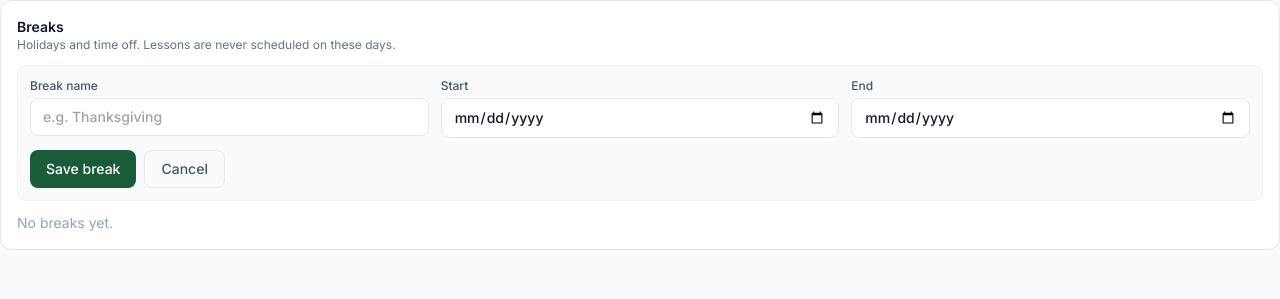
Test: SchoolBreaksPanel — add › shows an inline error and does not save for {"name":"Summer","start":"2027-06-10","end":"2027-06-20"}
This screenshot has width=1280, height=299.
Type "Summer" into the field labelled "Break name" at (229, 117), box [30,98,429,136]
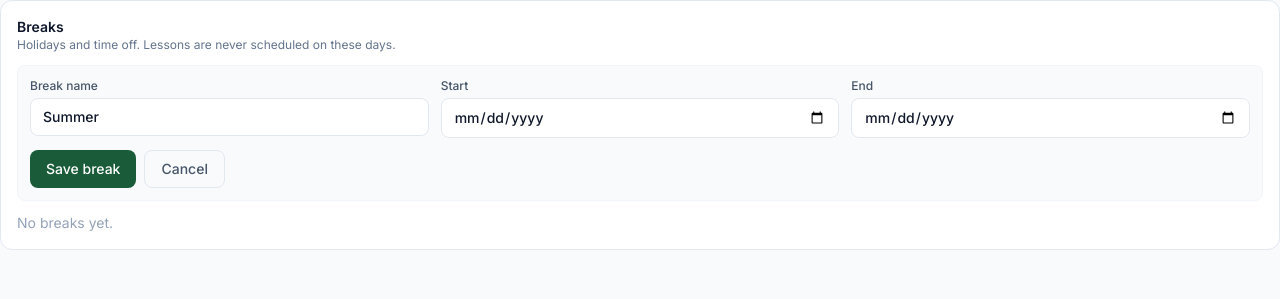
Type "2027-06-10" into the date field labelled "Start" at (640, 118), box [441,98,839,138]
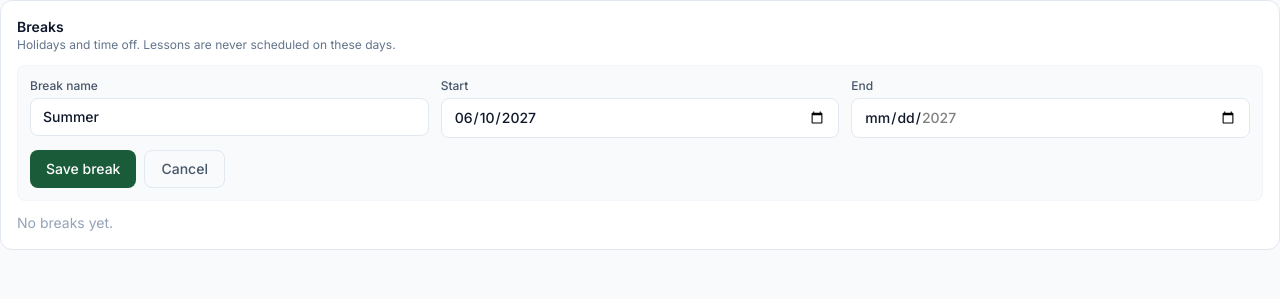
Type "2027-06-20" into the date field labelled "End" at (1051, 118), box [851,98,1250,138]
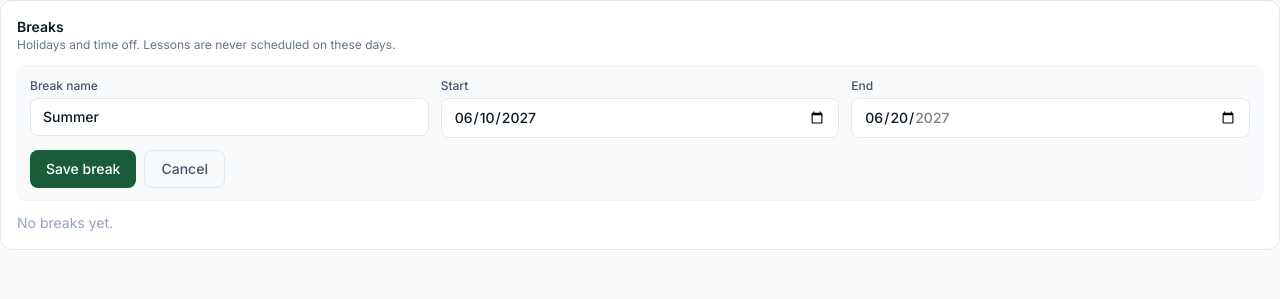
Click the button "Save break" at (83, 169), box [30,150,136,188]
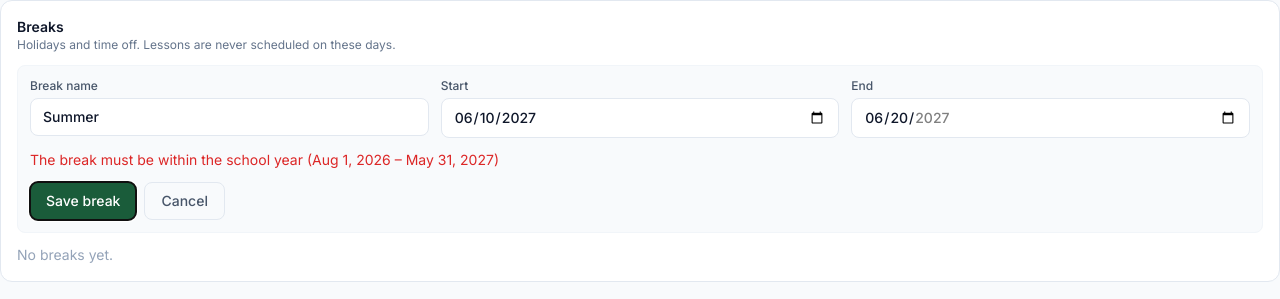
Result: the text "The break must be within the school year (Aug 1, 2026 – May 31, 2027)" is shown at [30,151,499,168]
